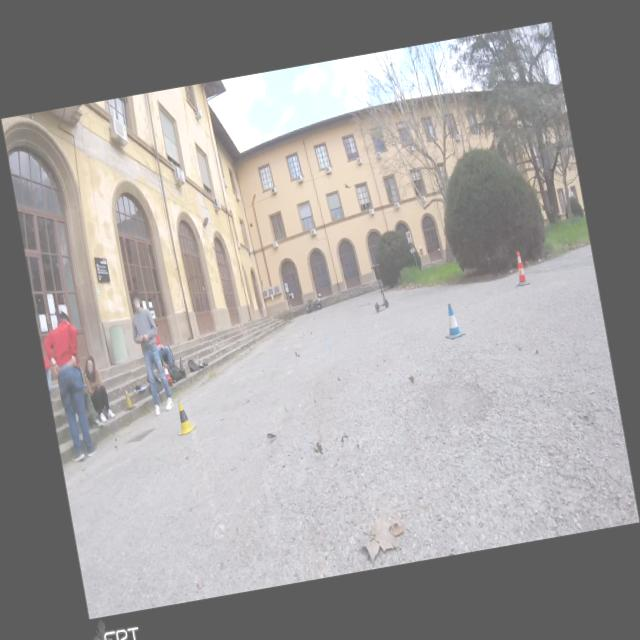blue_cone: (440, 302, 466, 341)
large_orange_cone: (510, 250, 530, 287)
orange_cone: (162, 362, 172, 380)
unknown_cone: (120, 388, 136, 411)
yellow_cone: (171, 397, 197, 436)
